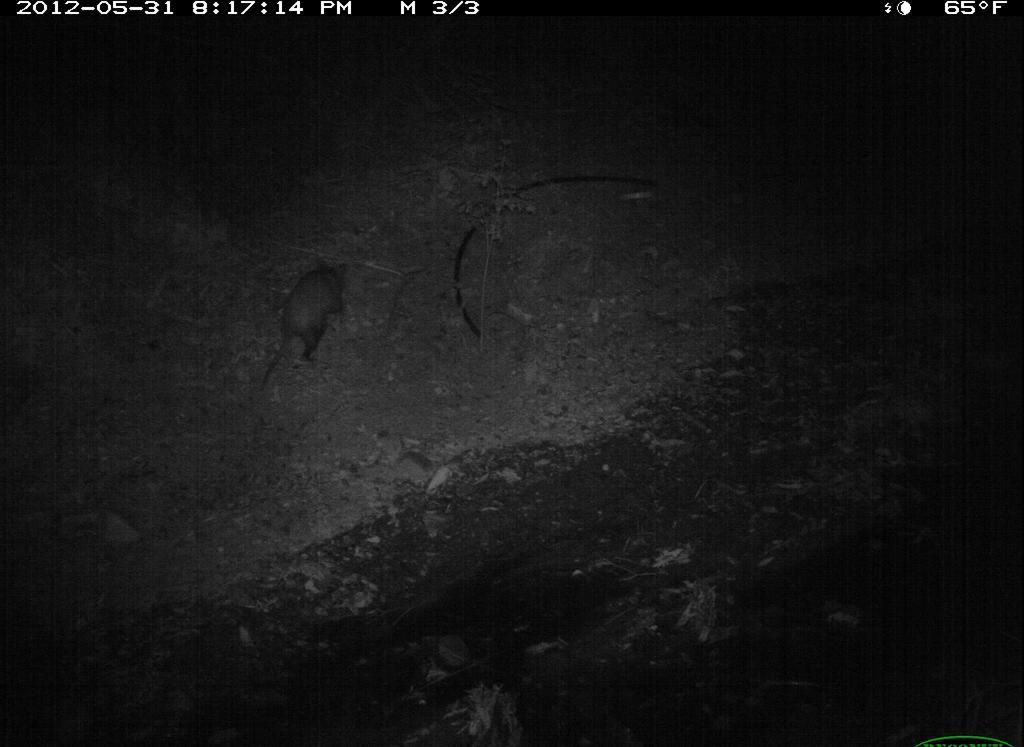opossum: (249, 236, 377, 405)
